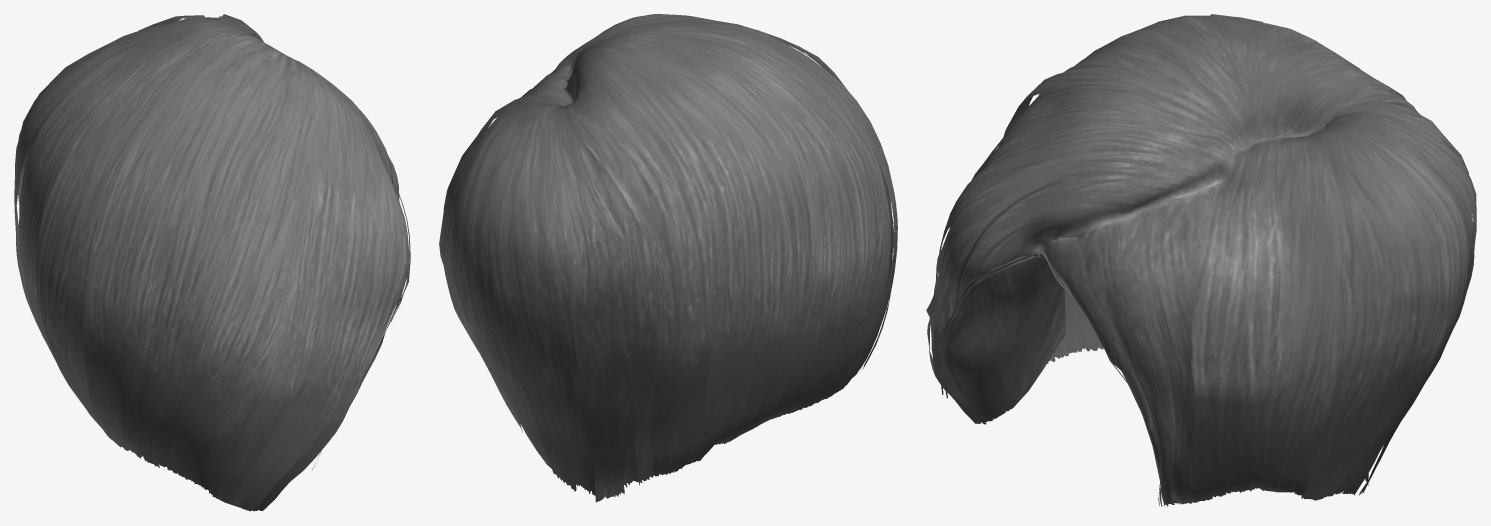
File: bob01.glb
The picture shows the model from 3 angles, left to right: view 1: azimuth 30°, elevation 25°; view 2: azimuth 150°, elevation 25°; view 3: azimuth 270°, elevation 25°; orthographic projection. The views are drawn at different scales.
Visible parts, largest first — view 1: editor_bob01; view 2: editor_bob01; view 3: editor_bob01.
Boxes of the visible parts, box(x1,y1,x2,y2) form: editor_bob01: box(14, 14, 410, 511); editor_bob01: box(439, 14, 897, 502); editor_bob01: box(926, 14, 1476, 506).
Size of the model in its own units: 0.2201 by 0.2476 by 0.2715.
Materials: 1 (1 with a texture image).
